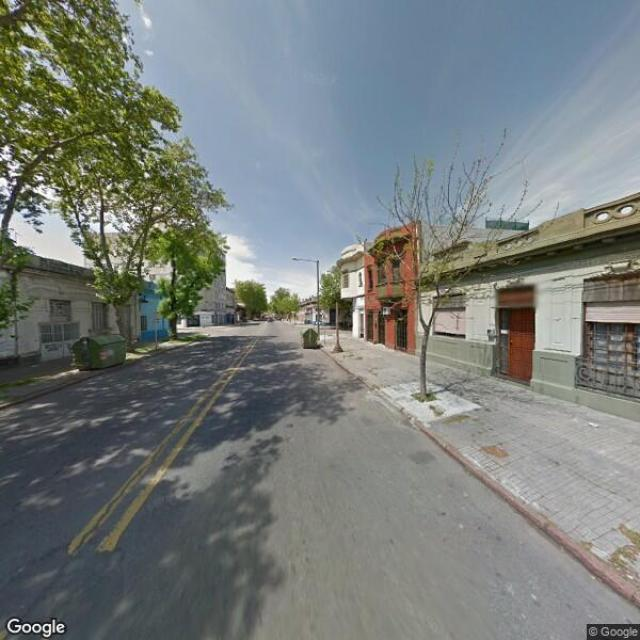garbage container: (62, 326, 139, 374), (294, 324, 324, 351)
